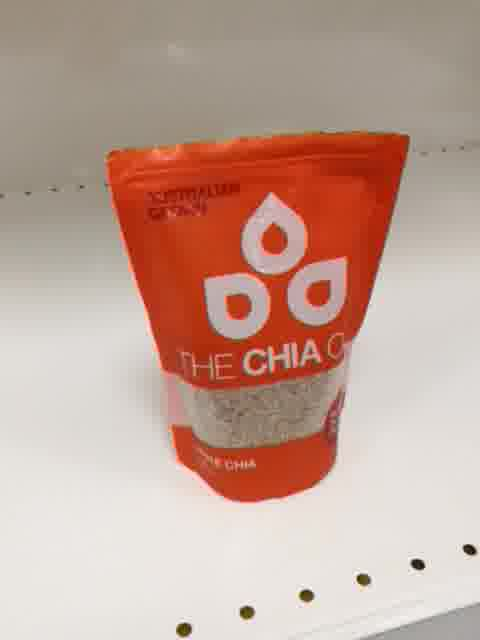whitechia: (102, 129, 409, 506)
